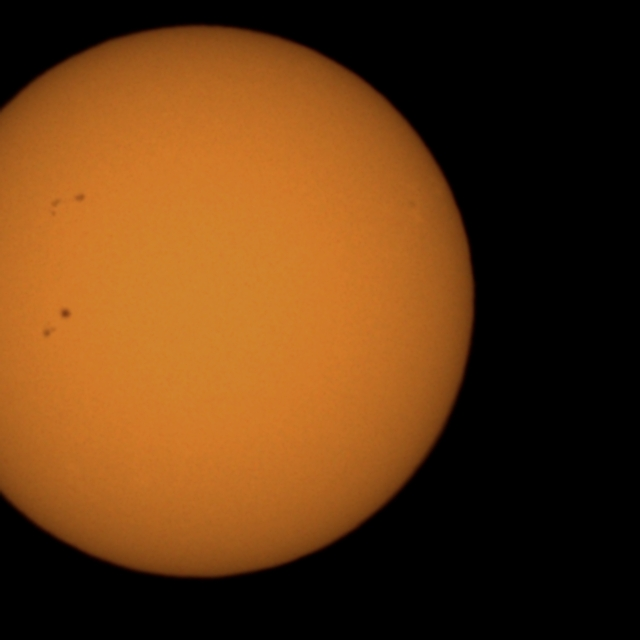sunspot: (48, 191, 87, 219), (39, 308, 73, 340), (48, 195, 63, 219), (41, 324, 58, 340), (58, 306, 74, 321), (73, 192, 87, 204)
